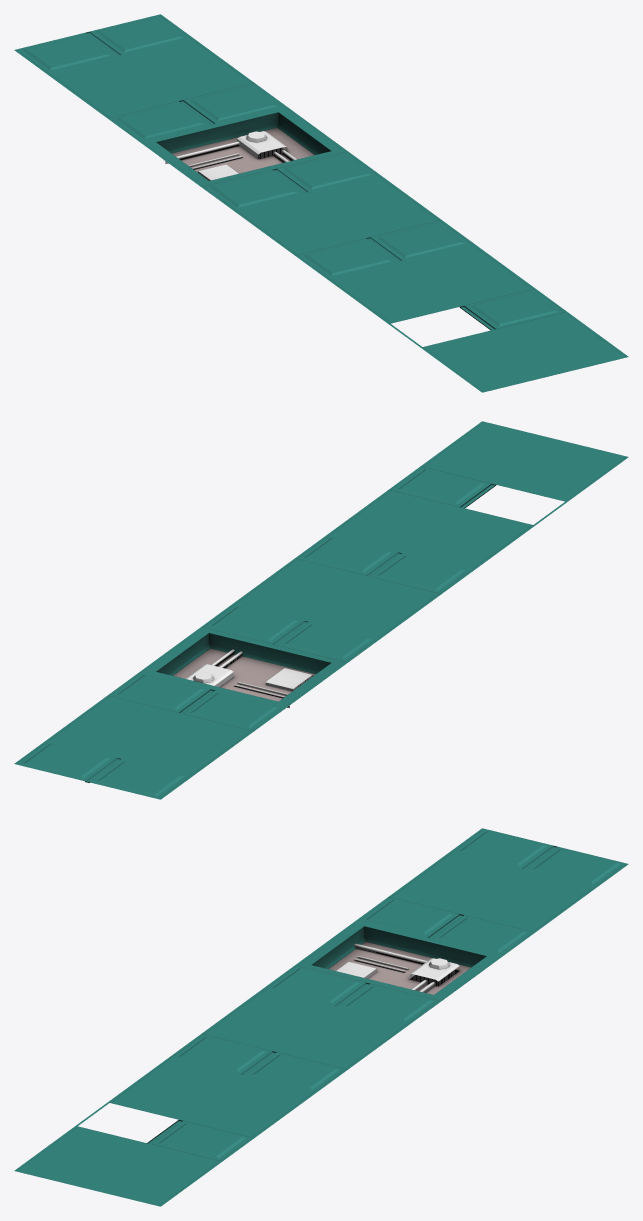
Rendered from sc_lvl1_floortile_06.FBX.
3 renders of one model, top to bottom at view 1: azimuth 30°, elevation 25°; view 2: azimuth 150°, elevation 25°; view 3: azimuth 330°, elevation 25°, orthographic.
Parts seen in each view (by area): view 1: sc_lvl1_floortile_06; view 2: sc_lvl1_floortile_06; view 3: sc_lvl1_floortile_06.
Part boxes in pixels (box(x1,y1,x2,y2)): sc_lvl1_floortile_06: box(14, 14, 628, 392); sc_lvl1_floortile_06: box(14, 421, 628, 799); sc_lvl1_floortile_06: box(14, 828, 628, 1206).
Size of the model in its own units: 18.1 by 1.79 by 100.
